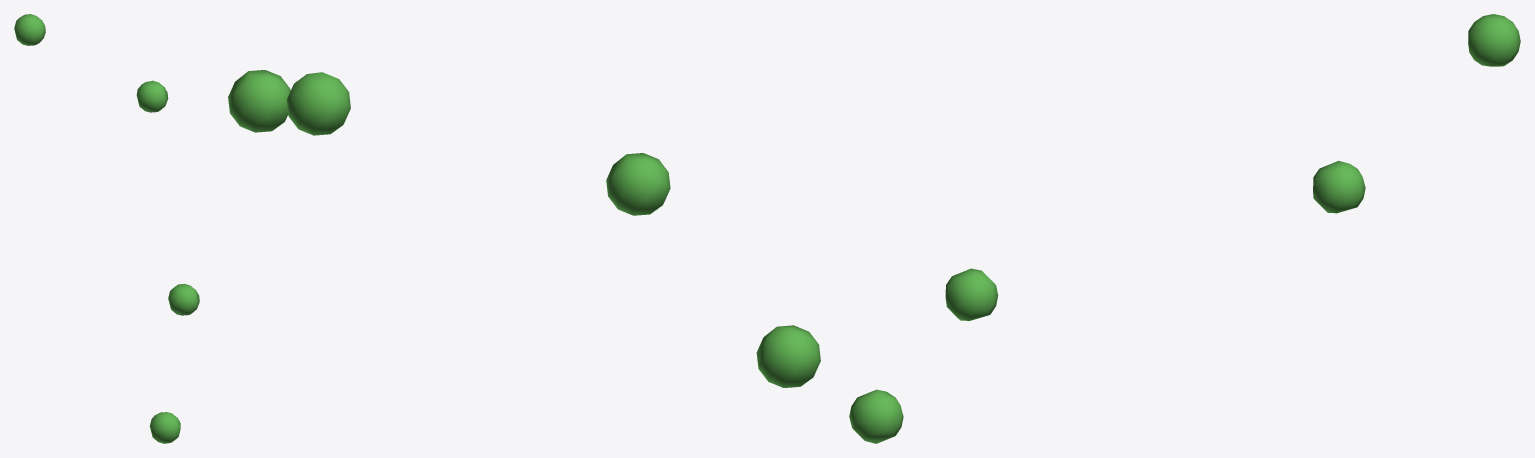
Rendered from linfatico-obturator-nodes-l.glb.
The picture shows the model from 3 angles, left to right: view 1: azimuth 30°, elevation 25°; view 2: azimuth 150°, elevation 25°; view 3: azimuth 270°, elevation 25°; orthographic projection. The views are drawn at different scales.
Visible parts, largest first — view 1: Obturator nodes.l; view 2: Obturator nodes.l; view 3: Obturator nodes.l.
Part boxes in pixels (<box>): Obturator nodes.l: <box>14,14,199,443</box>; Obturator nodes.l: <box>228,70,820,387</box>; Obturator nodes.l: <box>849,14,1520,443</box>.
Size of the model in its own units: 0.0141 by 0.0244 by 0.0321.
